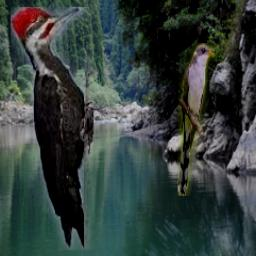Cuckoo: (178, 43, 216, 196)
Woodpecker: (11, 7, 93, 250)
